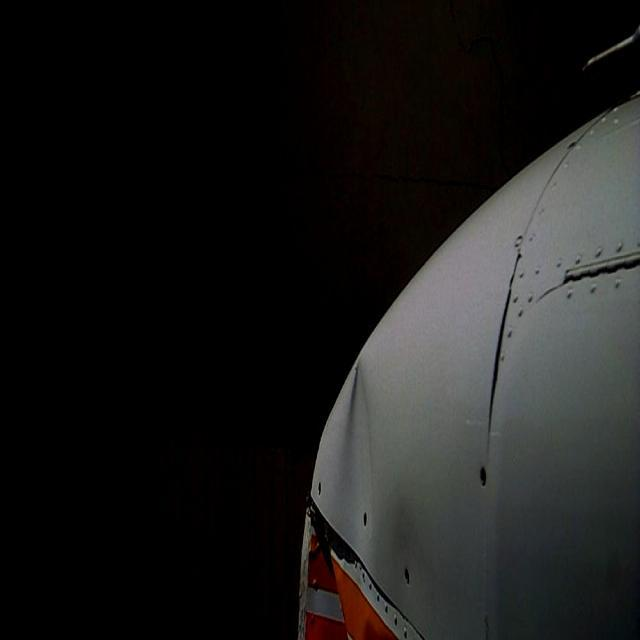dent: (291, 352, 380, 640)
